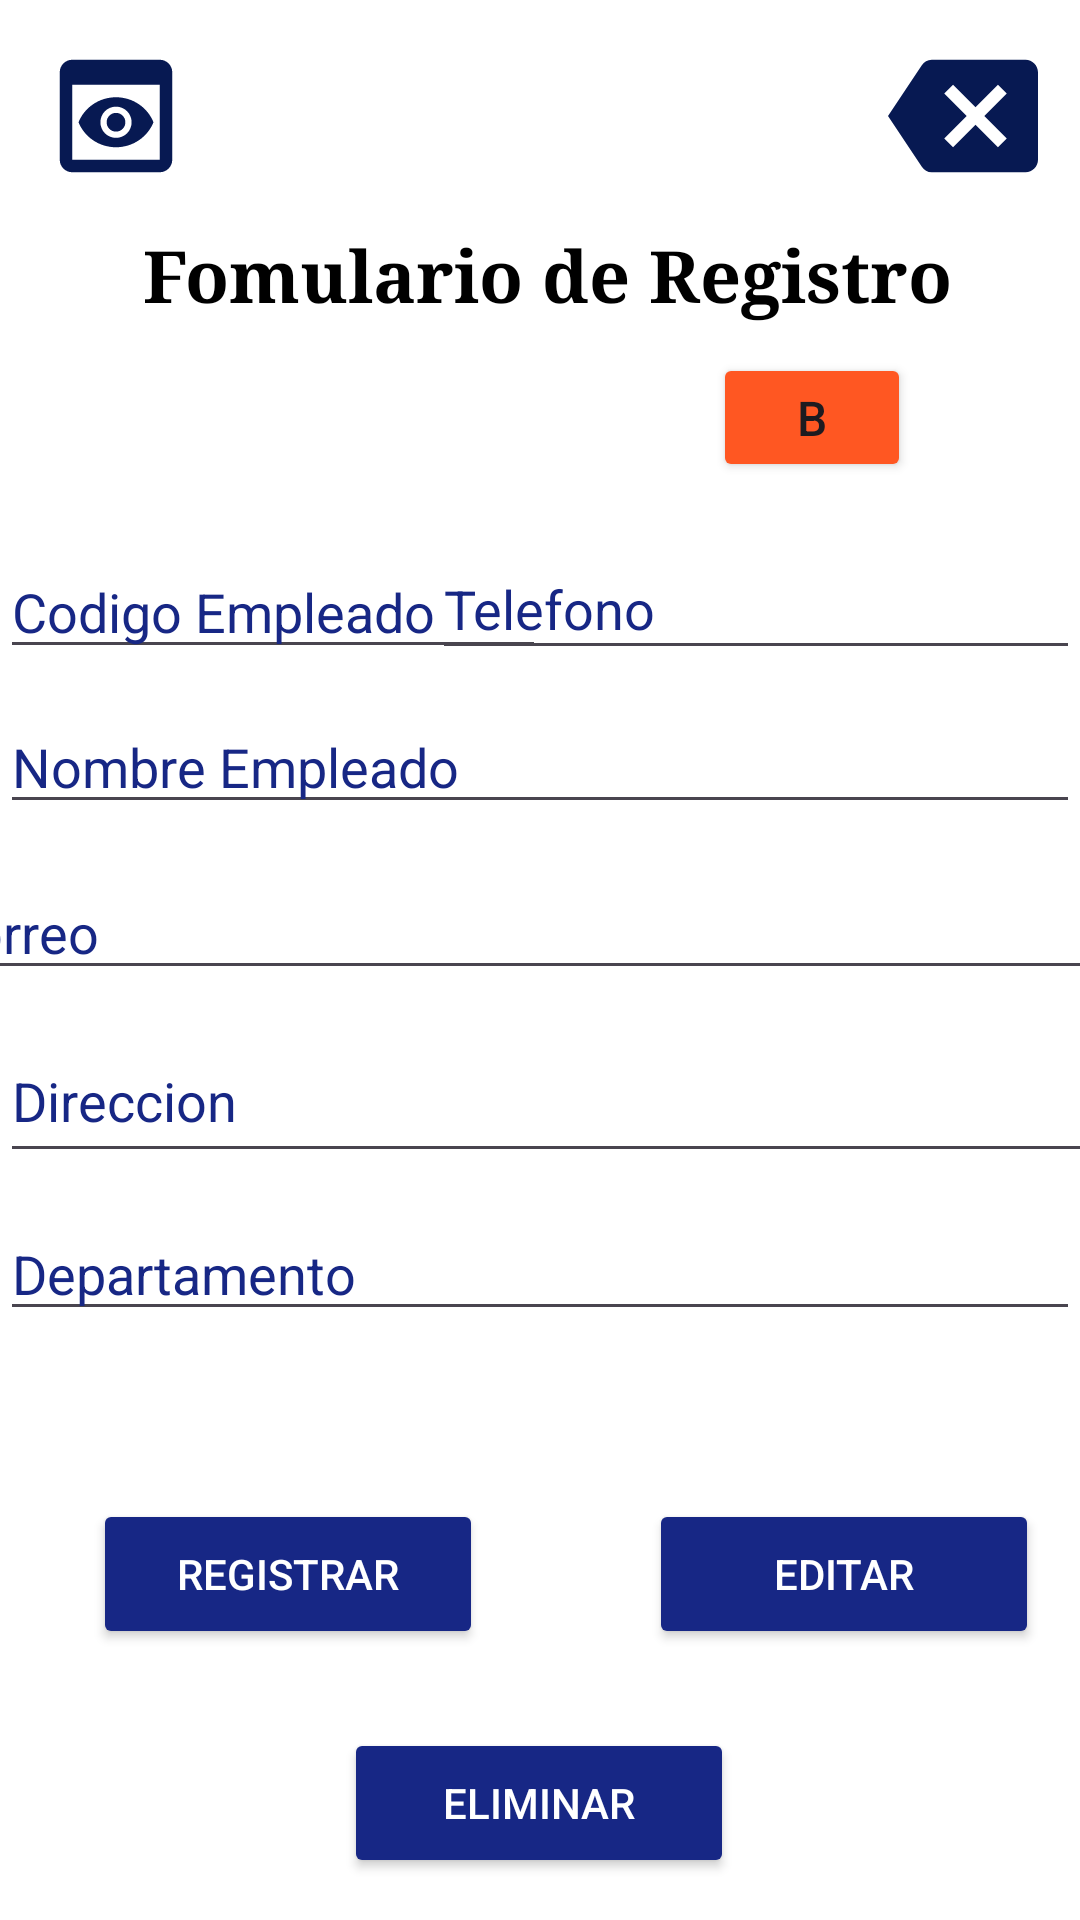

Icons on this 1080px x 1920px Android screen, each with the point to tap as (x,y):
backspace: (963,116)
Botón de visualizar listado de empleados: (116,116)
